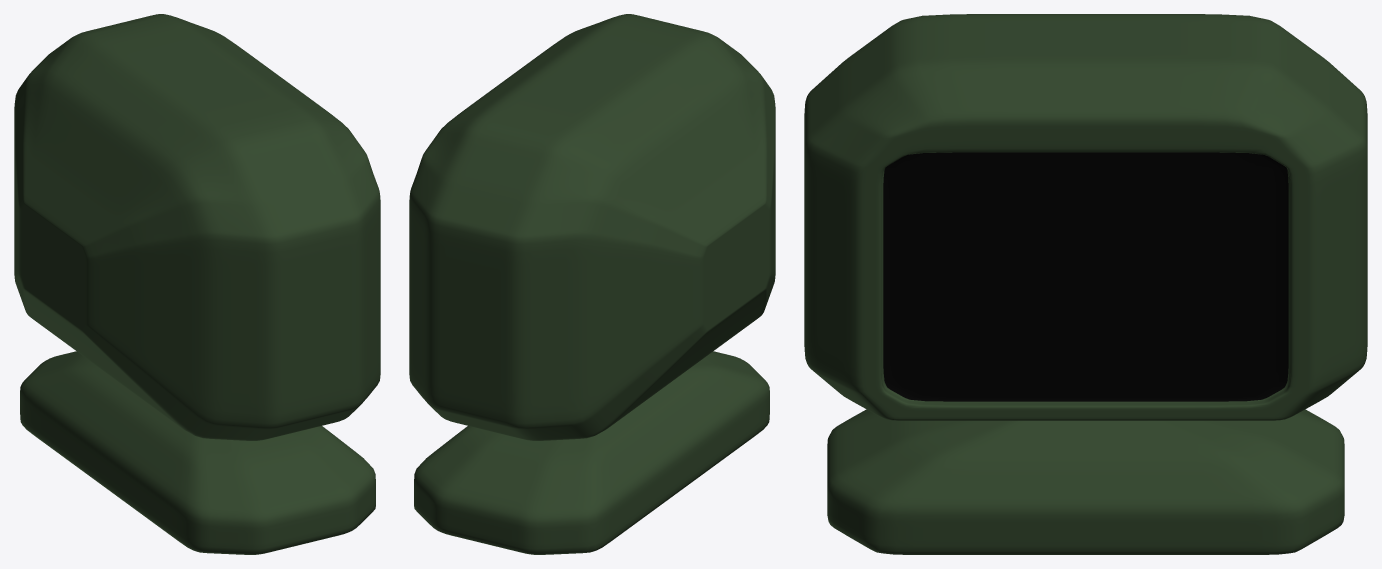
File: Computer.fbx
3 renders of one model, left to right at view 1: azimuth 30°, elevation 25°; view 2: azimuth 150°, elevation 25°; view 3: azimuth 270°, elevation 25°, orthographic. The views are drawn at different scales.
Visible parts, largest first — view 1: Cube; view 2: Cube; view 3: Cube.
Part boxes in pixels (x1=…): Cube: x1=14, y1=14, x2=380, y2=554; Cube: x1=409, y1=14, x2=775, y2=554; Cube: x1=804, y1=14, x2=1367, y2=554.
Size of the model in its own units: 78.78 by 125 by 137.
